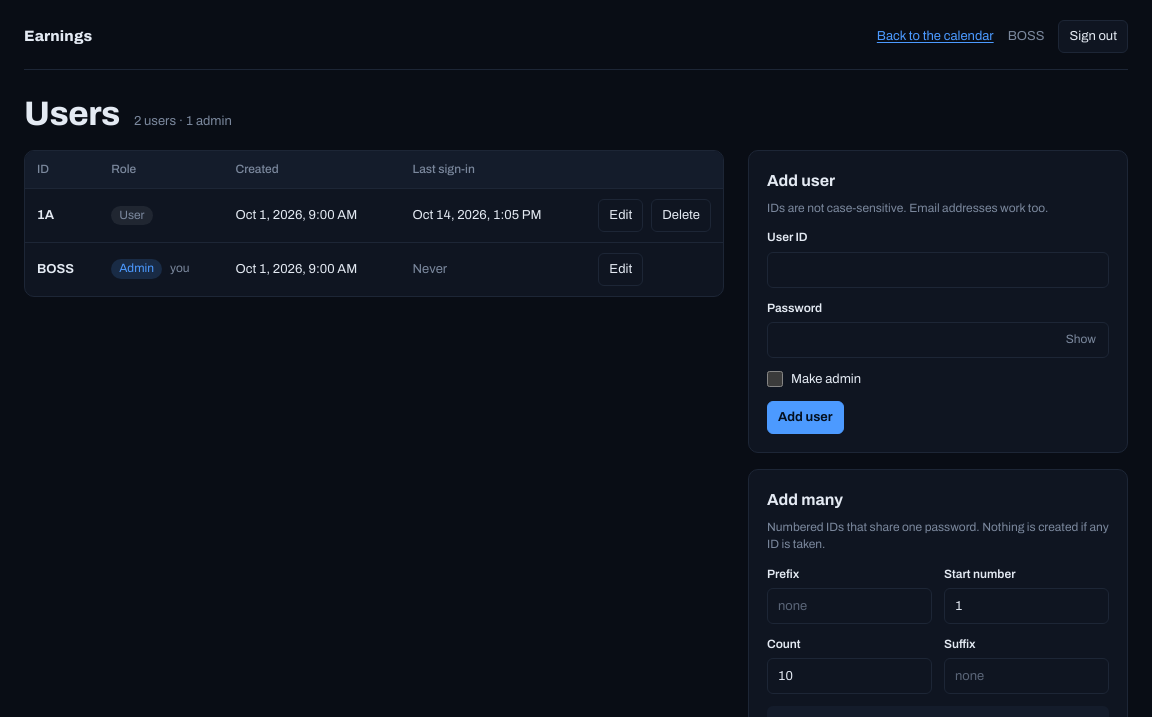
admin page › edit: change password, rename and toggle admin inline
Click the button "Edit" in the row of "1A" at (621, 215), box top-left (598, 199), bottom-right (643, 232)
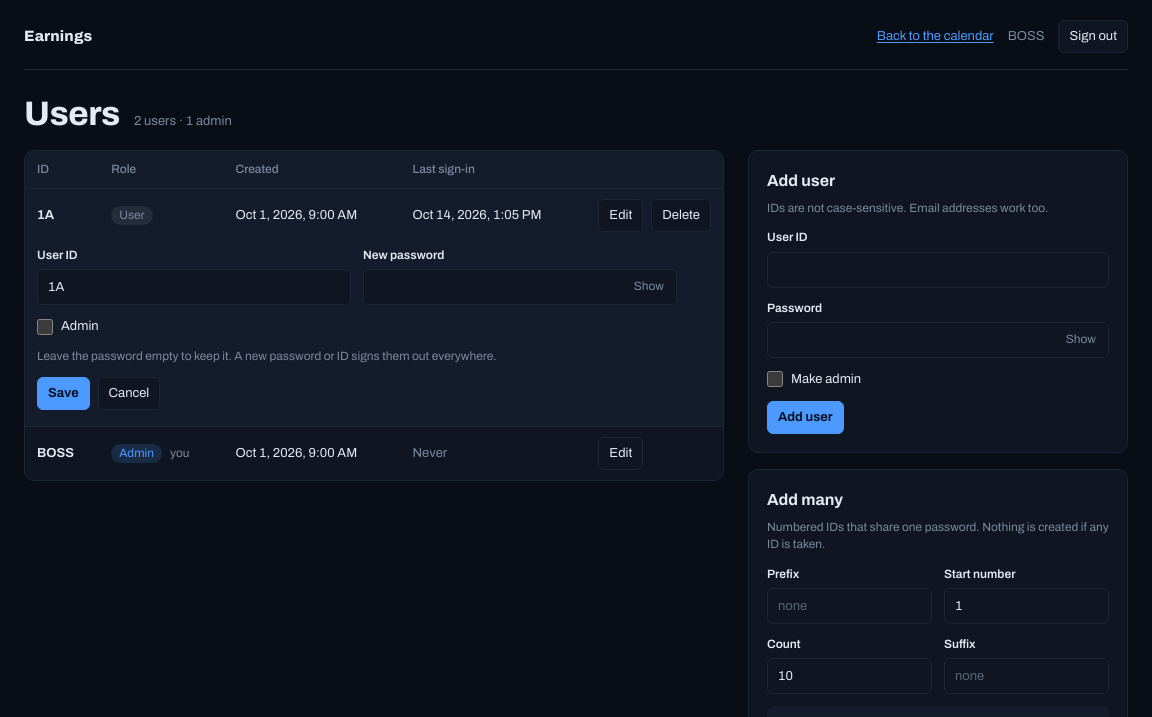
Type "another-pass" into the password field labelled "New password" at (520, 287), box top-left (363, 269), bottom-right (677, 305)
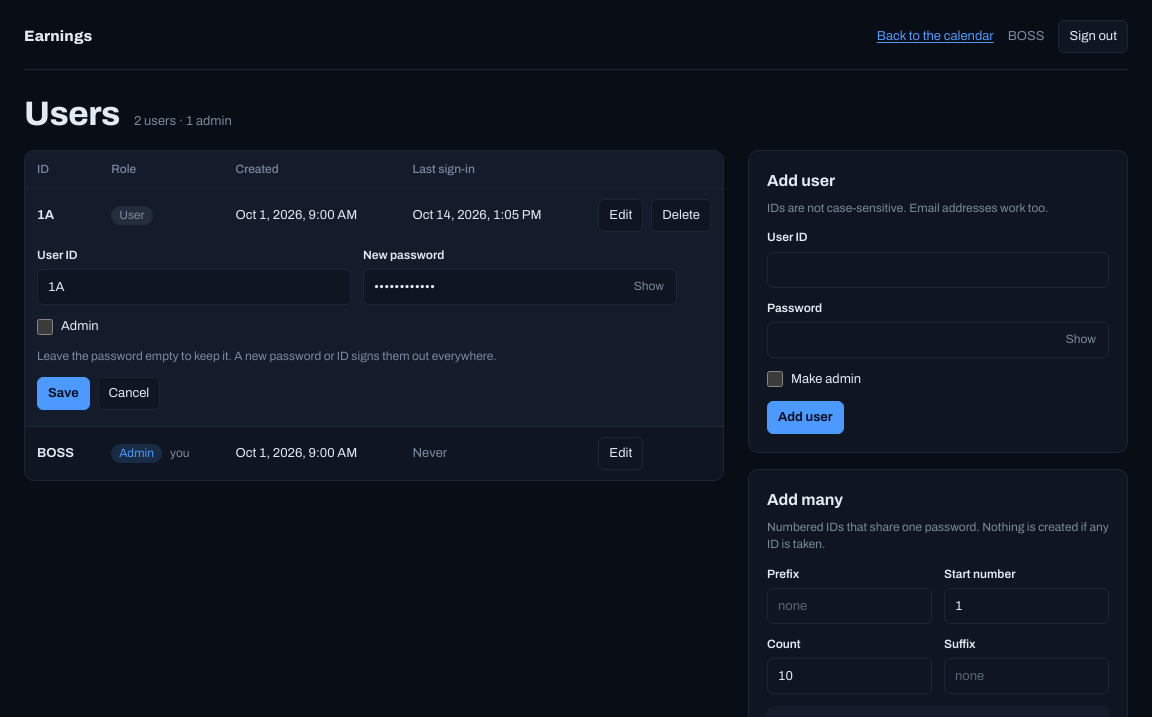
Replace the text in the field labelled "User ID" below "1A" with "trader1" at (194, 287), box top-left (37, 269), bottom-right (351, 305)
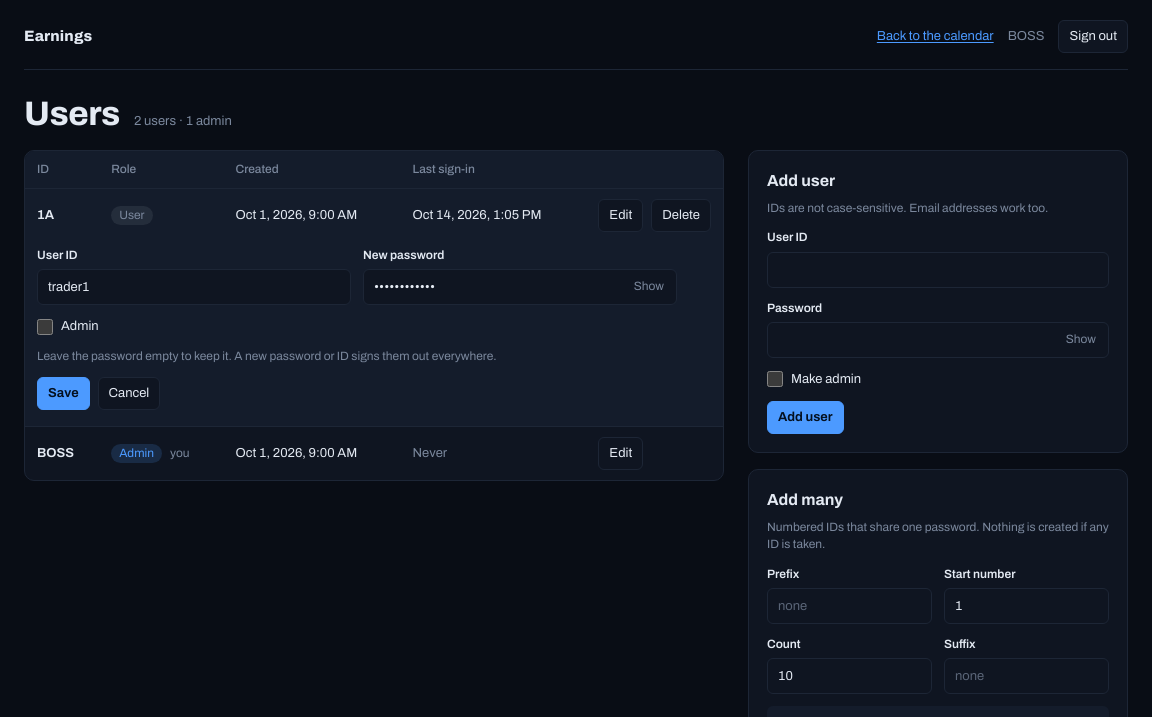
Click the checkbox labelled "Admin" at (45, 327), box top-left (37, 319), bottom-right (53, 335)
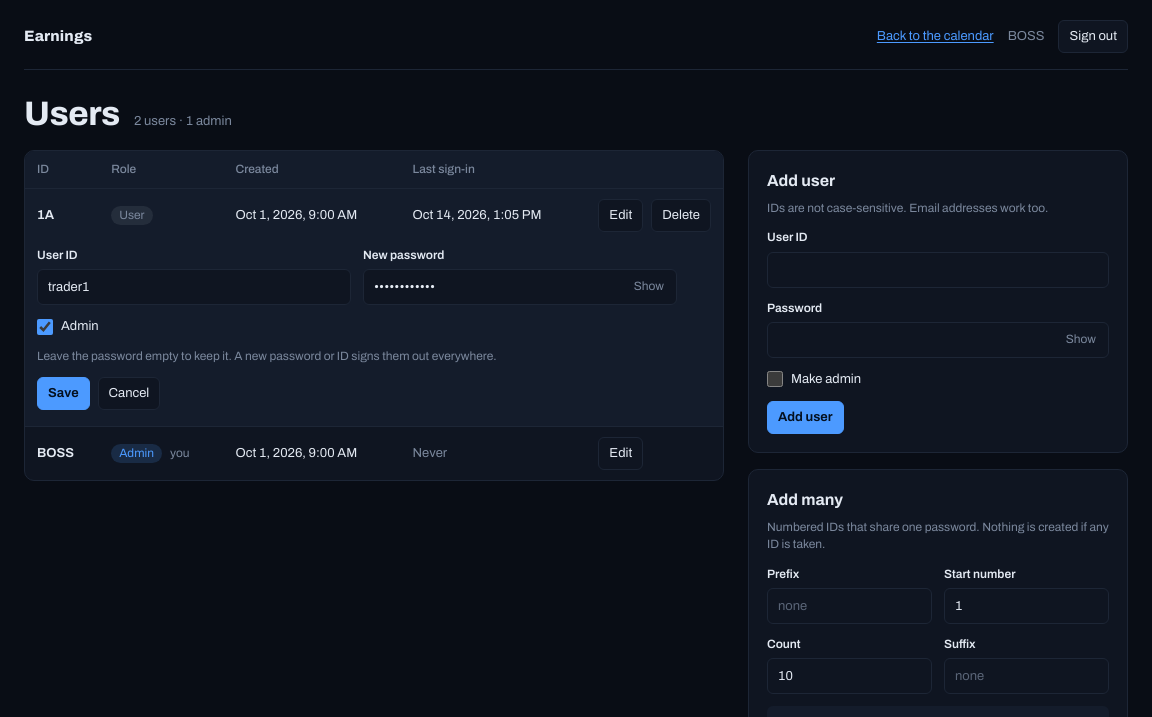
Click the button "Save" at (63, 394), box top-left (37, 377), bottom-right (90, 410)
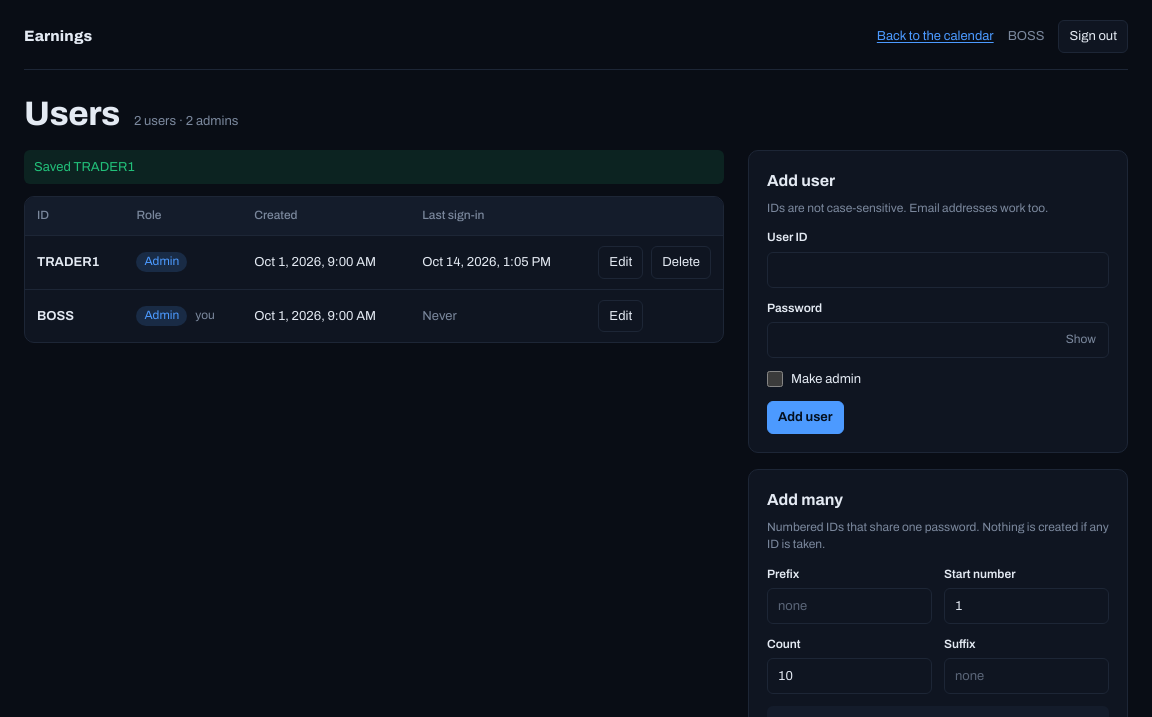
Expected: the text "Saved TRADER1" is shown, top-left (24, 150), bottom-right (724, 184)
Expected: the row "TRADER1" is shown, top-left (25, 236), bottom-right (723, 290)
